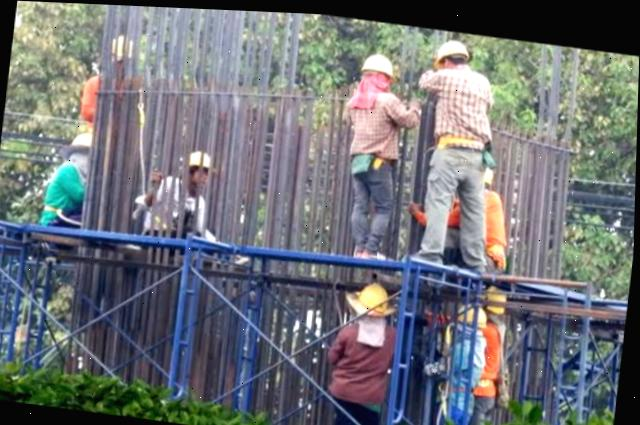helmet: (351, 271, 401, 310), (181, 128, 217, 171), (429, 33, 476, 61), (453, 298, 494, 329), (358, 45, 399, 75), (71, 125, 107, 153)
